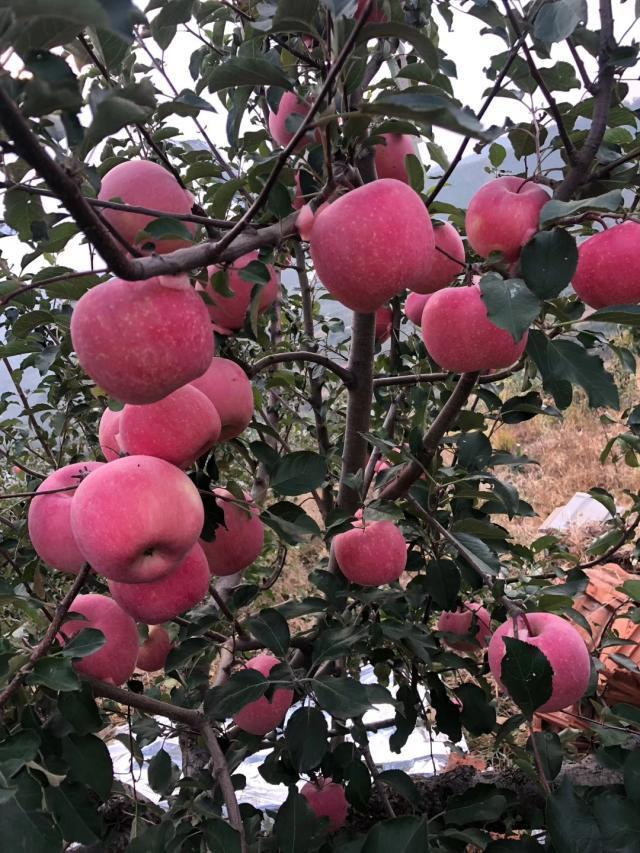apple: (69, 274, 211, 406), (73, 456, 208, 588), (310, 180, 434, 314), (415, 281, 525, 377), (492, 610, 591, 709), (90, 161, 193, 254), (463, 175, 550, 268), (119, 388, 216, 465), (60, 595, 137, 687), (568, 219, 639, 310)
